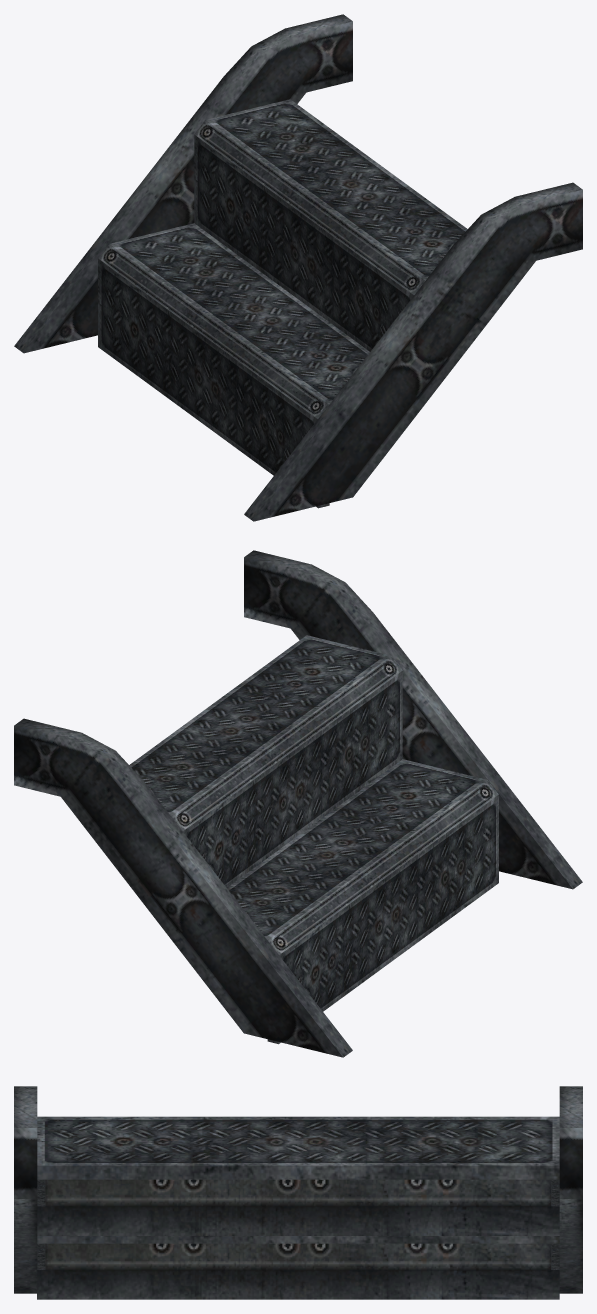
Rendered from metal_closable_top.dae.
3 views of the same model, one above another, from view 1: azimuth 30°, elevation 25°; view 2: azimuth 150°, elevation 25°; view 3: azimuth 270°, elevation 25° (orthographic). The views are drawn at different scales.
Visible parts, largest first — view 1: polySurface998; view 2: polySurface998; view 3: polySurface998.
Part boxes in pixels (x1,y1,x2,y2): polySurface998: [14, 14, 582, 521]; polySurface998: [14, 550, 582, 1057]; polySurface998: [14, 1086, 582, 1299].
Bounding box in the file's own units: 1.37 × 1.05 × 1.73.
